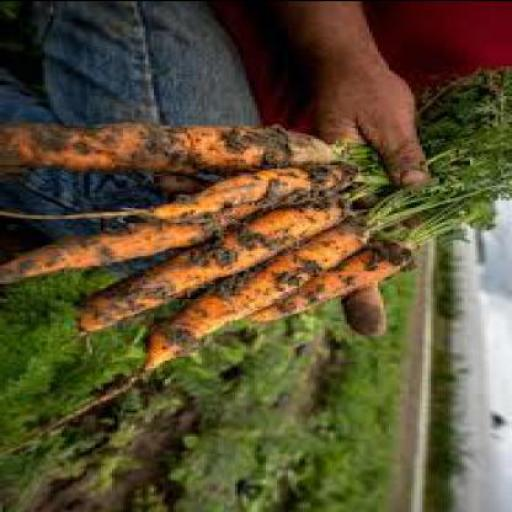biodegradable: (3, 164, 361, 290), (87, 202, 355, 336), (3, 270, 188, 462), (146, 220, 375, 374), (2, 121, 350, 177), (369, 114, 511, 232), (252, 240, 422, 324), (165, 359, 322, 432), (143, 432, 272, 511), (416, 66, 511, 162), (290, 448, 399, 511), (392, 192, 500, 250), (328, 370, 406, 450), (213, 322, 341, 364), (342, 141, 392, 205), (341, 335, 411, 380), (350, 288, 392, 337), (386, 280, 416, 338), (327, 302, 352, 328)
